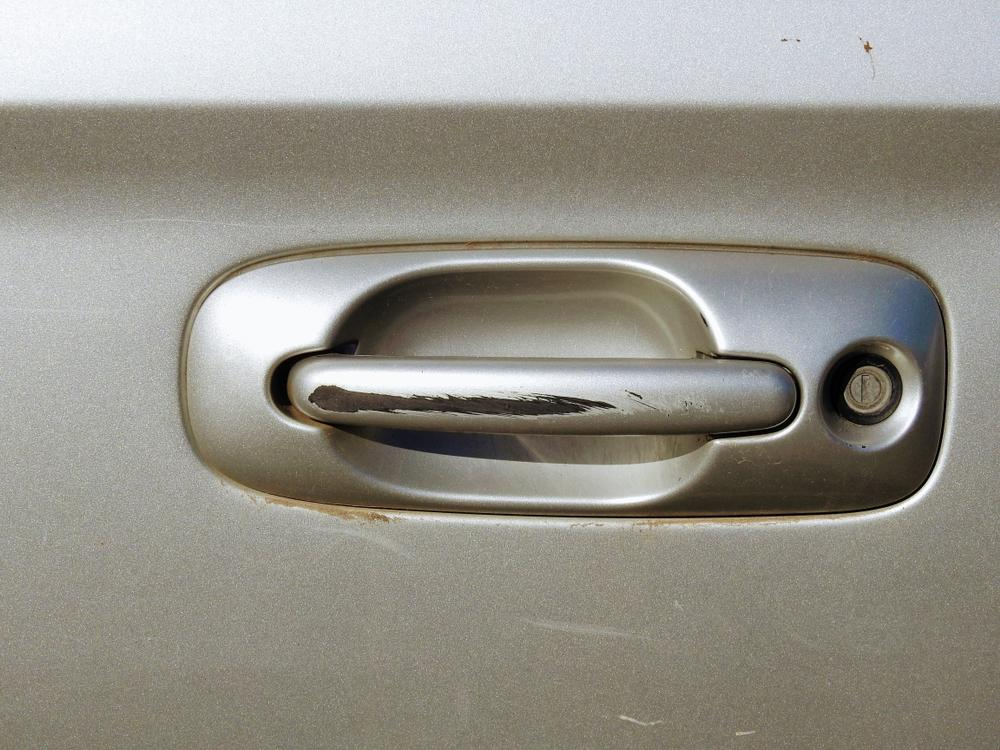scratch: (301, 380, 713, 421)
